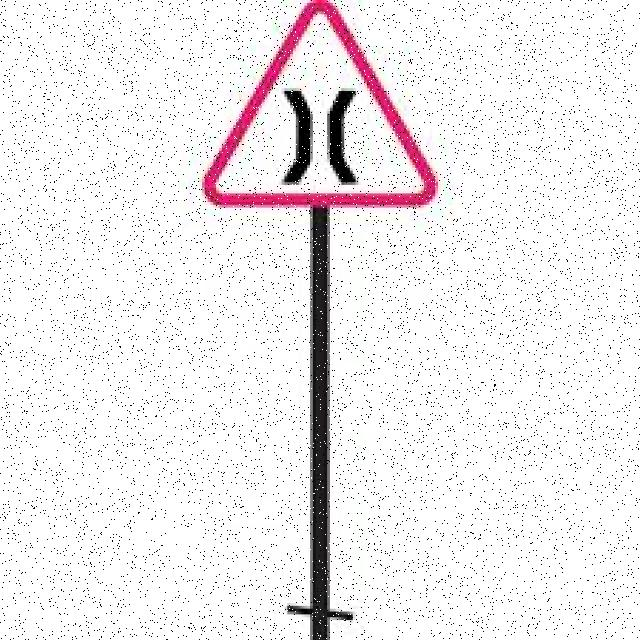Narrow_Bridge: (199, 0, 435, 199)
